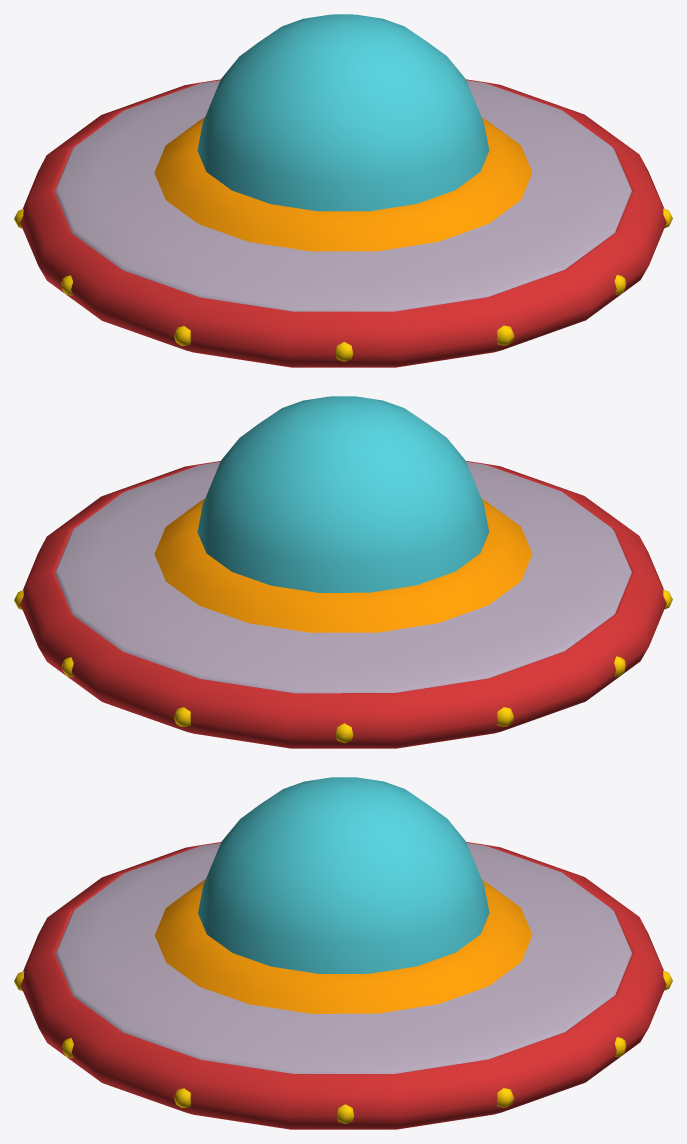
Rendered from Hat_12_01.fbx.
The picture shows the model from 3 angles, top to bottom: view 1: azimuth 30°, elevation 25°; view 2: azimuth 150°, elevation 25°; view 3: azimuth 270°, elevation 25°; orthographic projection.
Parts seen in each view (by area): view 1: Hat_12_01; view 2: Hat_12_01; view 3: Hat_12_01.
Part boxes in pixels (box(x1,y1,x2,y2)): Hat_12_01: box(14, 14, 672, 367); Hat_12_01: box(14, 396, 672, 748); Hat_12_01: box(14, 777, 672, 1129).
Bounding box in the file's own units: 79.52 × 34.07 × 80.72.
